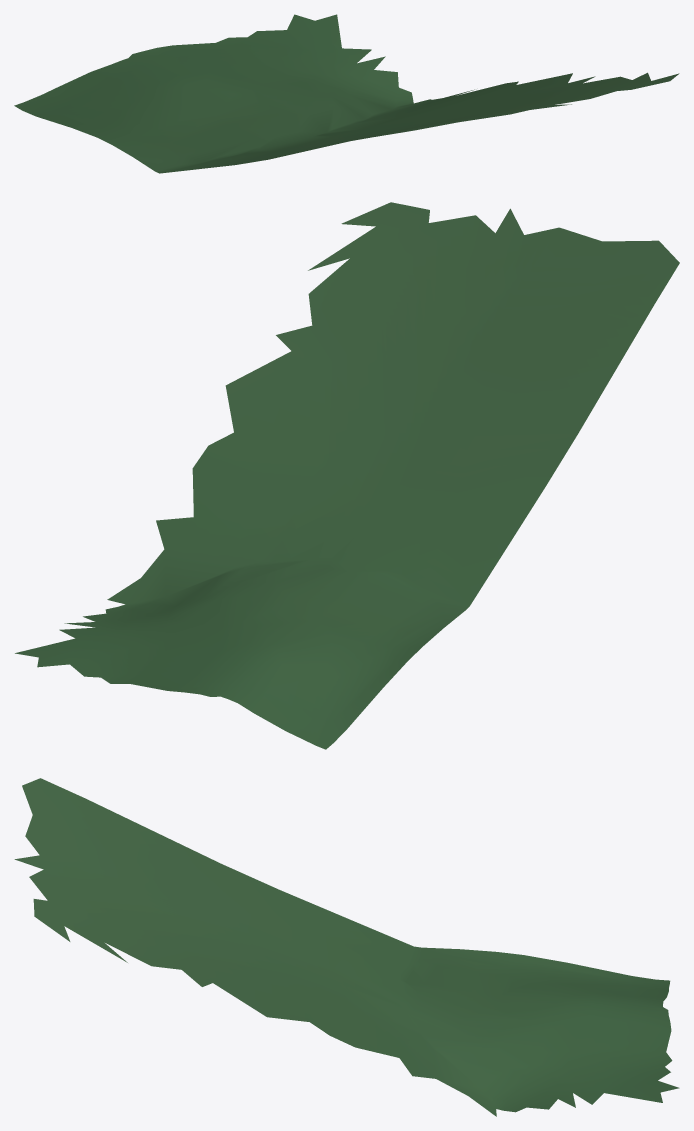
Rendered from payo_land_x4_y9_lod1.glb.
The picture shows the model from 3 angles, top to bottom: view 1: azimuth 30°, elevation 25°; view 2: azimuth 150°, elevation 25°; view 3: azimuth 270°, elevation 25°; orthographic projection. The views are drawn at different scales.
Parts seen in each view (by area): view 1: payo_land_x4_y9; view 2: payo_land_x4_y9; view 3: payo_land_x4_y9.
Part boxes in pixels (x1,y1,x2,y2): payo_land_x4_y9: [14, 14, 679, 173]; payo_land_x4_y9: [15, 202, 679, 749]; payo_land_x4_y9: [14, 778, 679, 1116].
Bounding box in the file's own units: 135 × 92.46 × 268.
